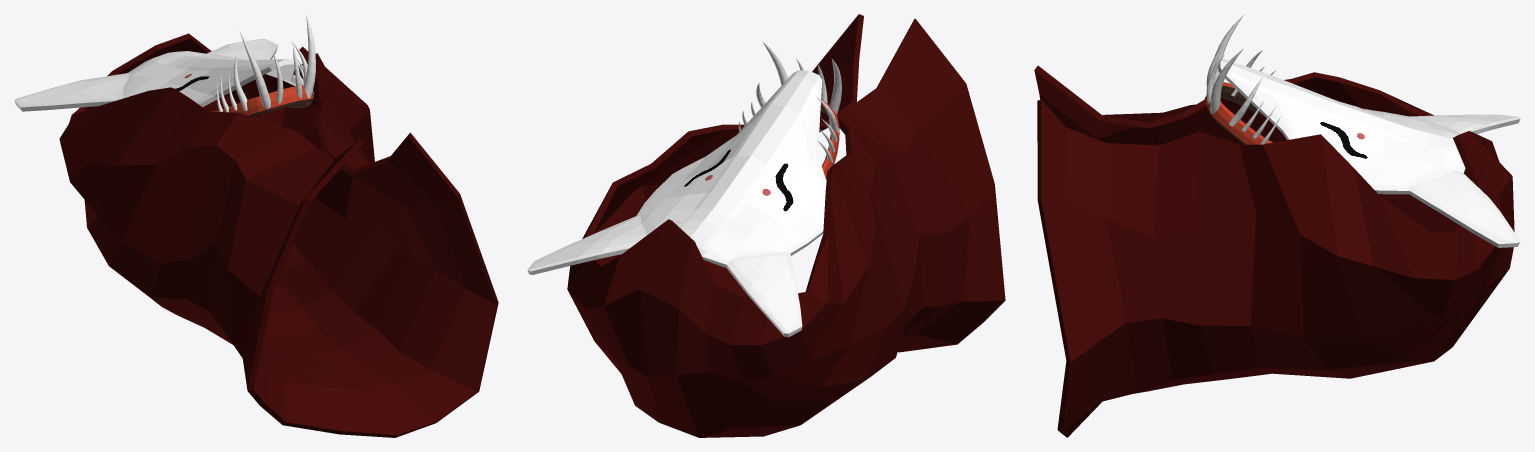
File: MaskedEnemy_GhostGame2.fbx
3 views of the same model, side by side, from view 1: azimuth 30°, elevation 25°; view 2: azimuth 150°, elevation 25°; view 3: azimuth 270°, elevation 25° (orthographic). The views are drawn at different scales.
Visible parts, largest first — view 1: CloakRed, CoyoteMaskFinalized, CoyoteLowerJaw, LargeTeeth.001, FrontRowTeeth.001; view 2: CloakRed, CoyoteMaskFinalized, LargeTeeth.001; view 3: CloakRed, CoyoteMaskFinalized, CoyoteLowerJaw, LargeTeeth.001.
Part boxes in pixels (x1,y1,x2,y2): CloakRed: (59,33,498,437); CoyoteMaskFinalized: (14,39,303,111); CoyoteLowerJaw: (212,85,313,116); LargeTeeth.001: (239,15,315,108); FrontRowTeeth.001: (272,45,302,103); CloakRed: (567,14,1005,437); CoyoteMaskFinalized: (527,70,826,337); LargeTeeth.001: (762,41,841,114); CloakRed: (1034,65,1514,437); CoyoteMaskFinalized: (1218,58,1520,247); CoyoteLowerJaw: (1204,82,1272,144); LargeTeeth.001: (1210,14,1244,113).
Size of the model in its own units: 311 by 398 by 470.
